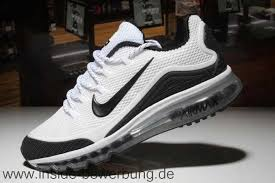nike: (91, 57, 155, 118)
